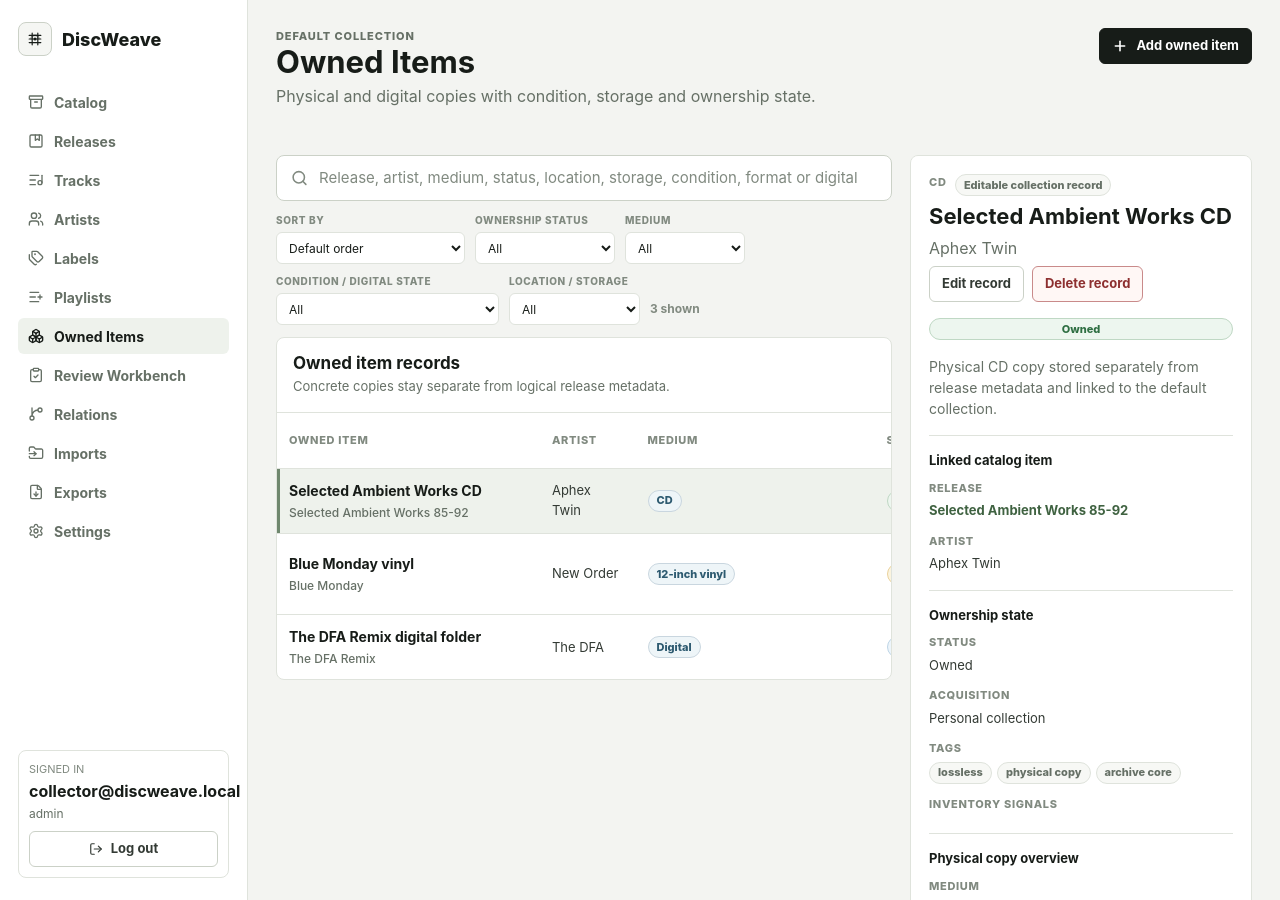
Scenario: App owned item and relation workspaces › updates owned item detail when an owned item row is selected
What coordinates should you click on to do the following:
click the button "Blue Monday vinyl Blue Monday"
I would click on:
 (408, 574)
Its box is [289,553,528,595].
(page scrolled)
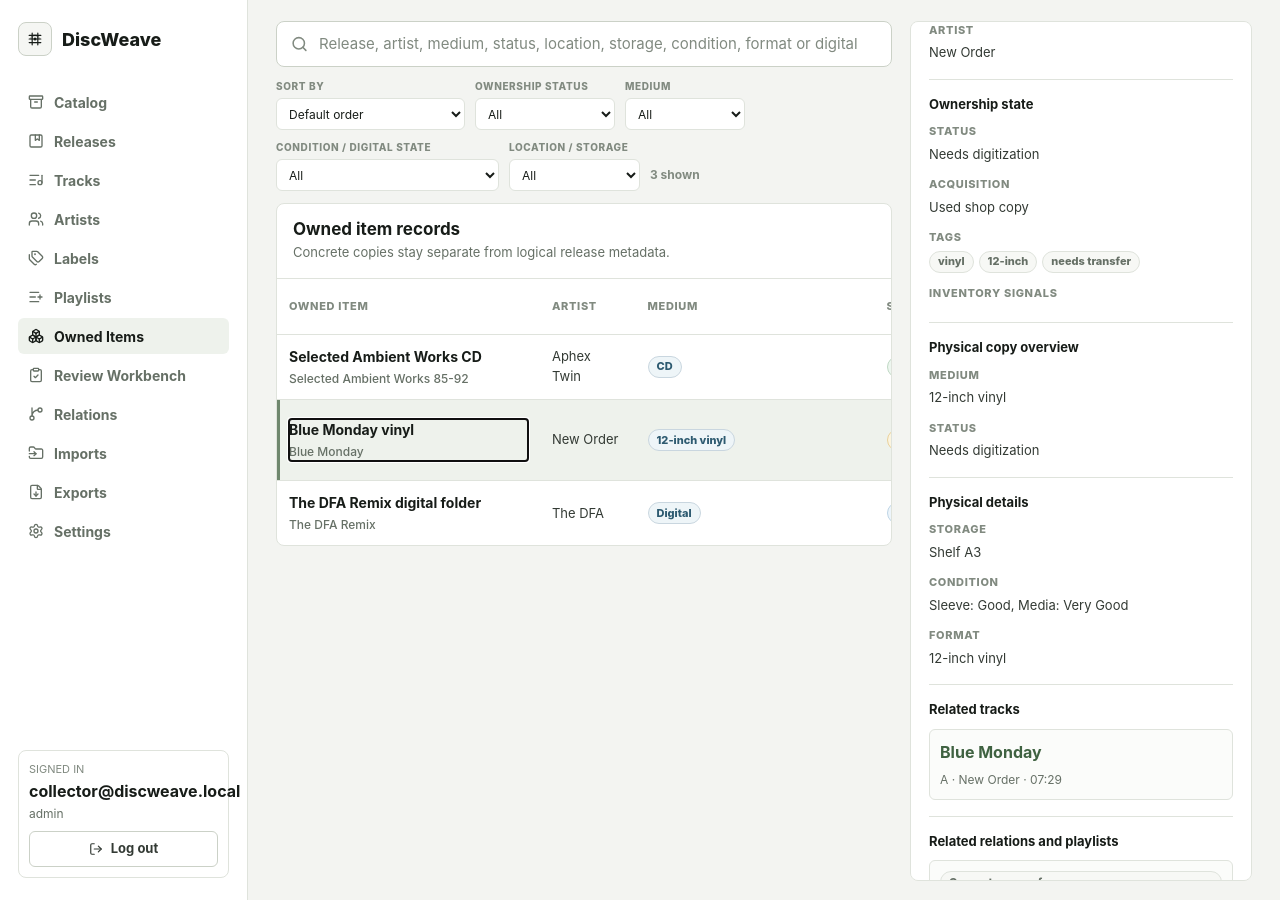
Expected: the text "Shelf A3" is shown, [929,544,981,560]
Expected: the 1st text "Needs digitization" is shown, [929,146,1039,162]
Expected: the text "Needs digitization" below "Physical copy overview" is shown, [929,442,1039,458]
